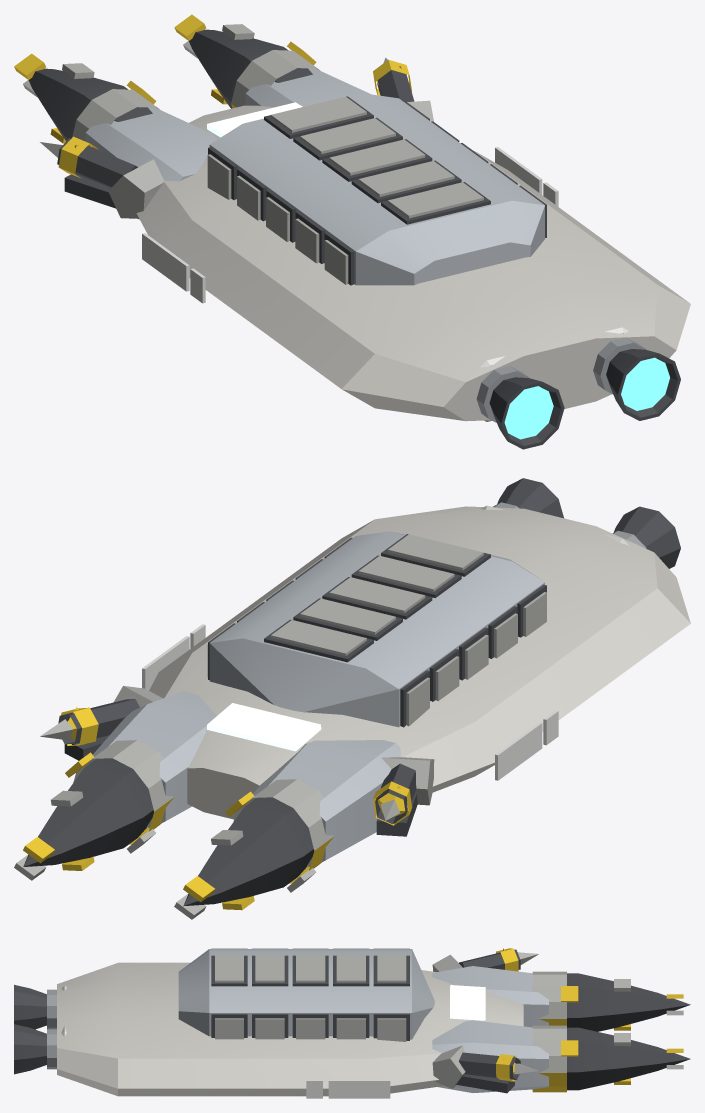
File: unit_miner_100.glb
3 views of the same model, one above another, from view 1: azimuth 30°, elevation 25°; view 2: azimuth 150°, elevation 25°; view 3: azimuth 270°, elevation 25° (orthographic). The views are drawn at different scales.
Parts seen in each view (by area): view 1: Hull, Rotor_Drill_R, Rotor_Drill_L; view 2: Hull, Rotor_Drill_R, Rotor_Drill_L; view 3: Hull, Rotor_Drill_R, Rotor_Drill_L.
Part boxes in pixels (left/top/right/bottom): Hull: left=57, top=59, right=690, bottom=449; Rotor_Drill_R: left=174, top=14, right=321, bottom=108; Rotor_Drill_L: left=14, top=53, right=161, bottom=143; Hull: left=58, top=478, right=690, bottom=866; Rotor_Drill_R: left=14, top=740, right=174, bottom=880; Rotor_Drill_L: left=174, top=779, right=334, bottom=919; Hull: left=14, top=948, right=548, bottom=1098; Rotor_Drill_R: left=532, top=1025, right=690, bottom=1092; Rotor_Drill_L: left=532, top=971, right=690, bottom=1031.
Size of the model in its own units: 0.8427 by 0.3067 by 2.
